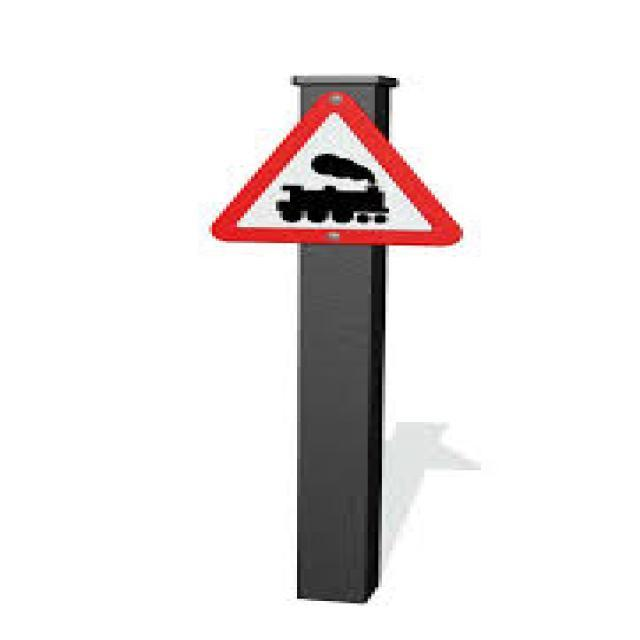unguarded level crossing: (202, 83, 464, 255)
